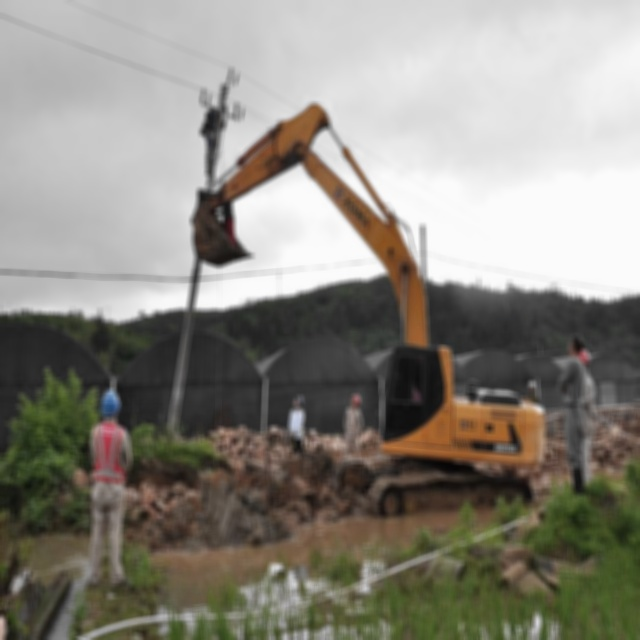Con_Casco: (102, 390, 119, 420)
Con_Chaleco: (94, 421, 126, 489)
Sin_Casco_Mascarrilla: (567, 335, 584, 360)
Sin_Chaleco: (563, 359, 585, 403)
